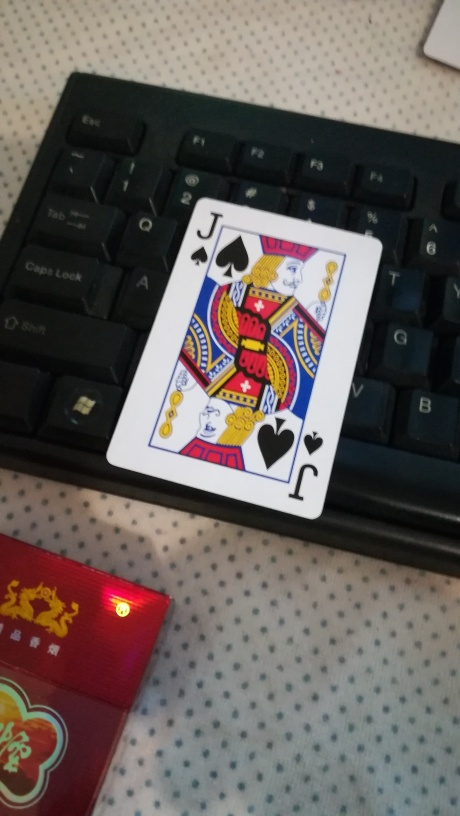ht j: (104, 197, 383, 525)
